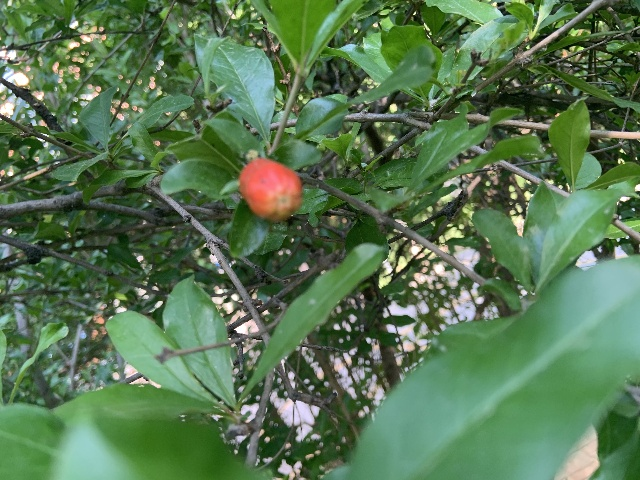bud: (239, 158, 303, 222)
